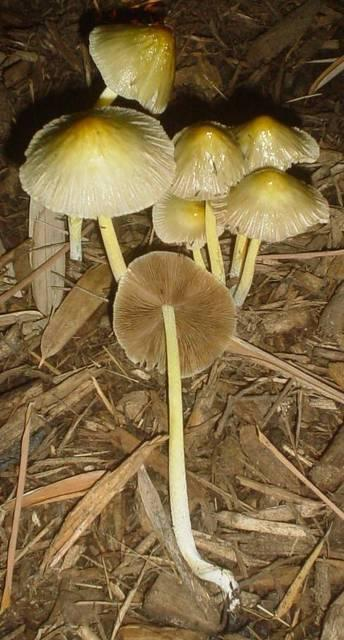Edible Mushroom: (111, 249, 242, 615), (17, 103, 176, 282), (144, 112, 329, 230), (223, 165, 330, 307), (81, 14, 187, 116)
